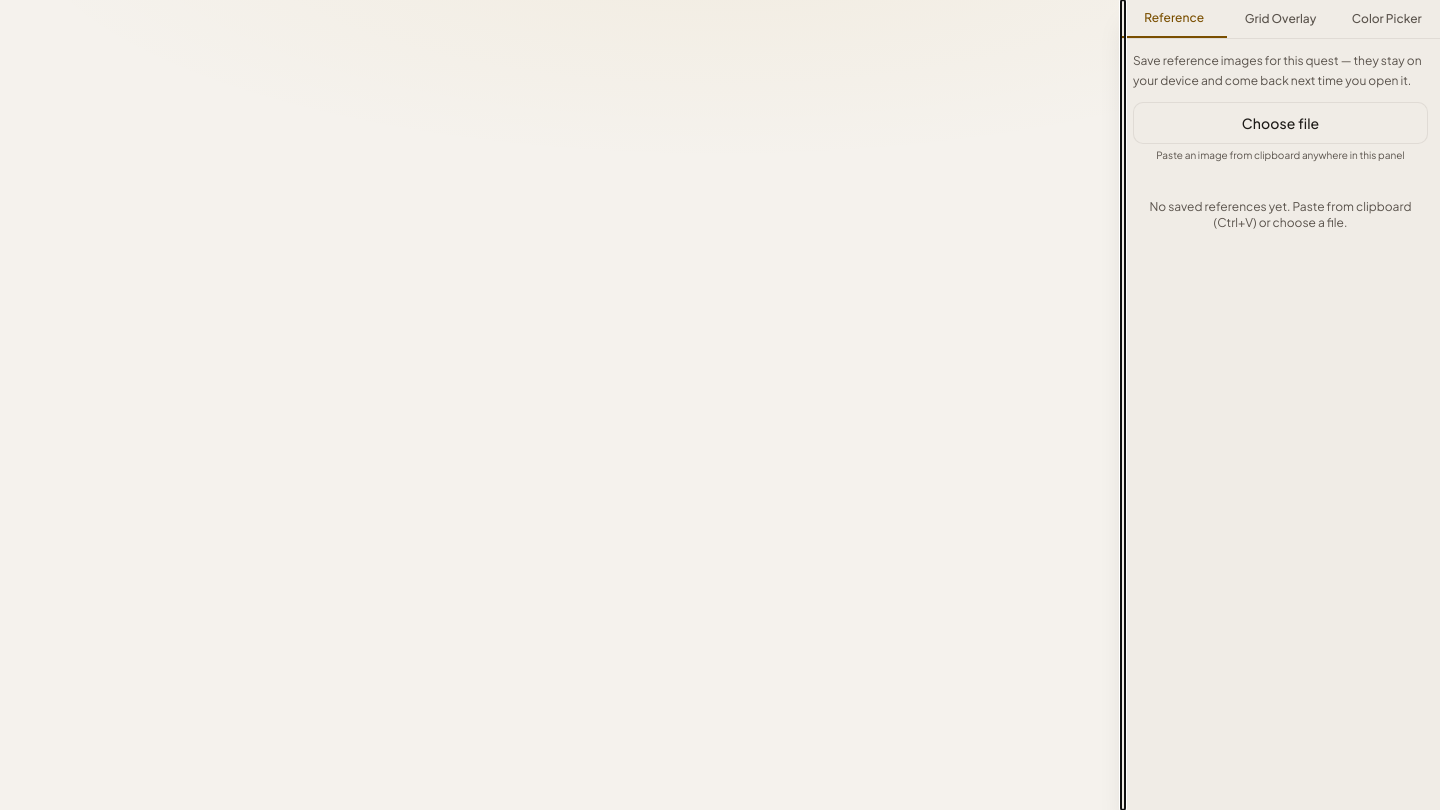
Test case: ReferencePanel › switches to color picker tab when clicked
Click the button "Color Picker": (1387, 19) left=1334, top=1, right=1439, bottom=37
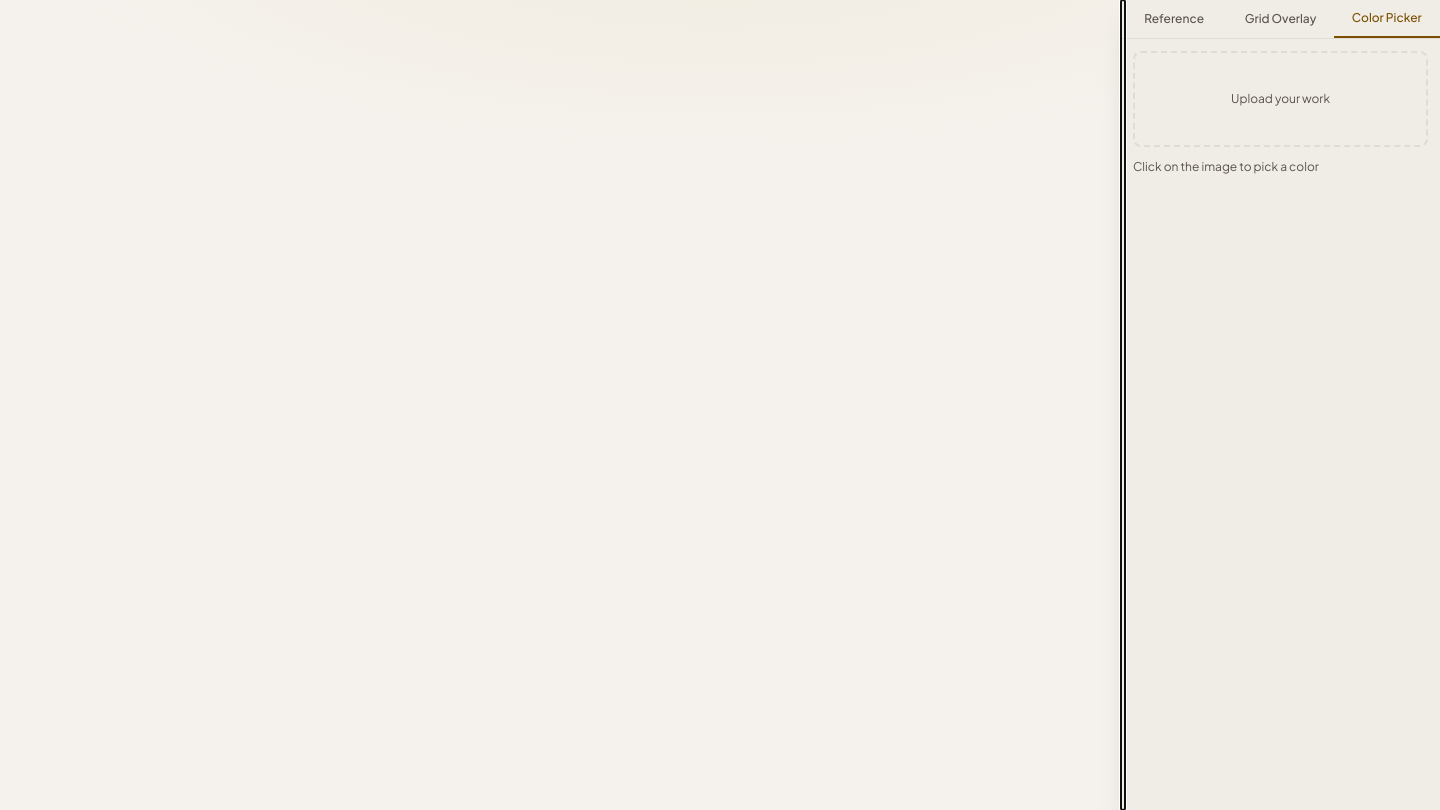
Expected: the text "Click on the image to pick a color" is shown, left=1133, top=159, right=1319, bottom=174
